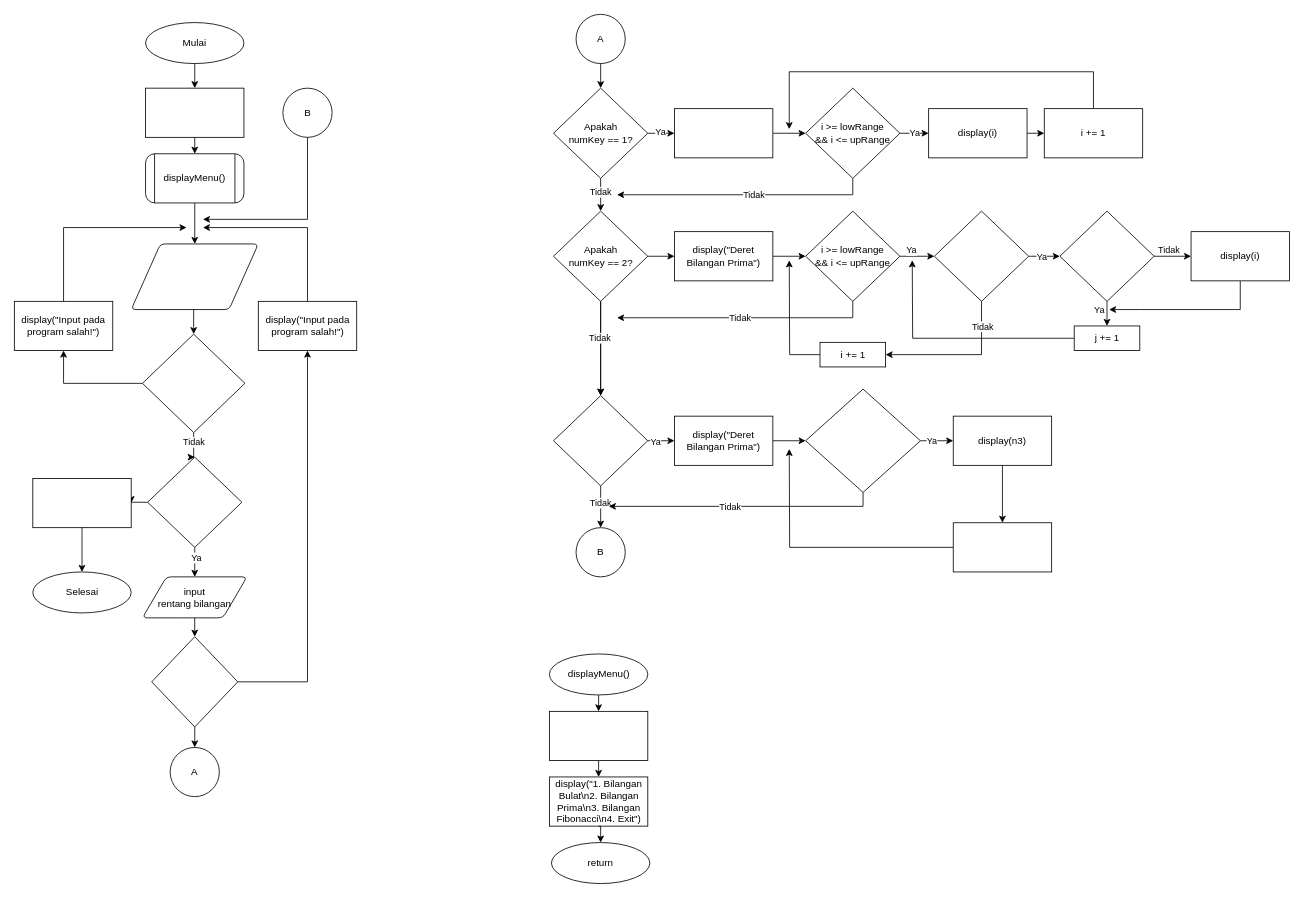
This 1304x898 diagram has some shape labels left out. The shapes that lost their labels are listed below. From the top down, each one's centre as x and y in pixels, then its label:
point 194,112: numKey, lowRange, upRange, i, j, n1, n2, n3
point 723,133: display("Deret Bilangan Bulat")
point 981,255: i > 0 && j >= 2 && j <= i/2
point 1106,255: i % j == 0
point 194,276: input jenis bilangan
point 193,383: numKey < 0 || numKey > 4?
point 600,440: Apakah numKey == 3?
point 862,440: n3 >= lowRange && n3 <= upRange
point 81,503: display("Program selesai")
point 194,501: numKey != 4?
point 1002,547: n3 = n1 + n3 n1 = n2 n2 = n3
point 194,681: lowRange >= upRange?
point 598,736: display("PROGRAM BILANGAN")
